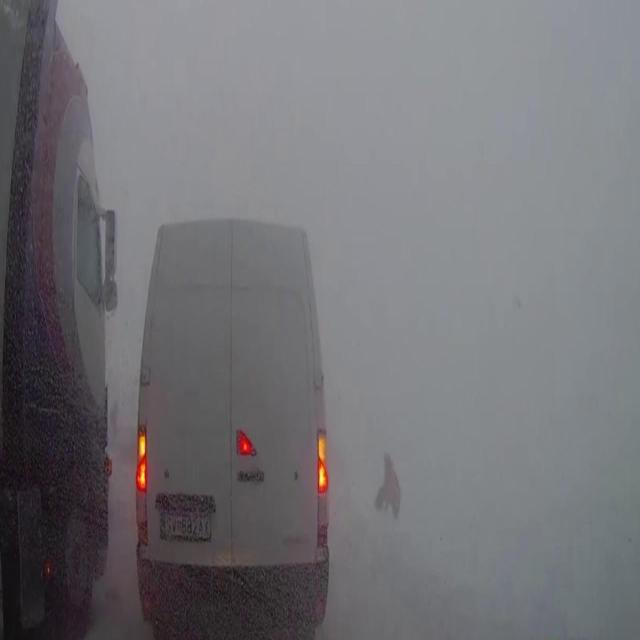bus: (0, 23, 120, 634)
car: (140, 216, 328, 635)
